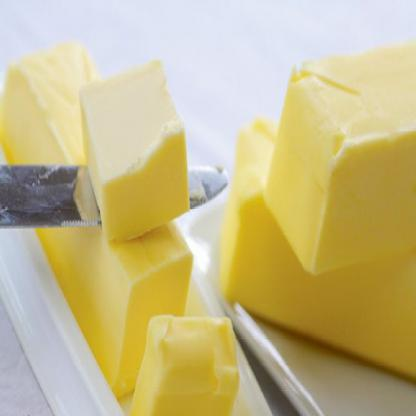butter: (3, 44, 190, 398), (220, 121, 416, 384), (265, 38, 416, 276), (77, 60, 191, 236), (130, 316, 236, 415)
